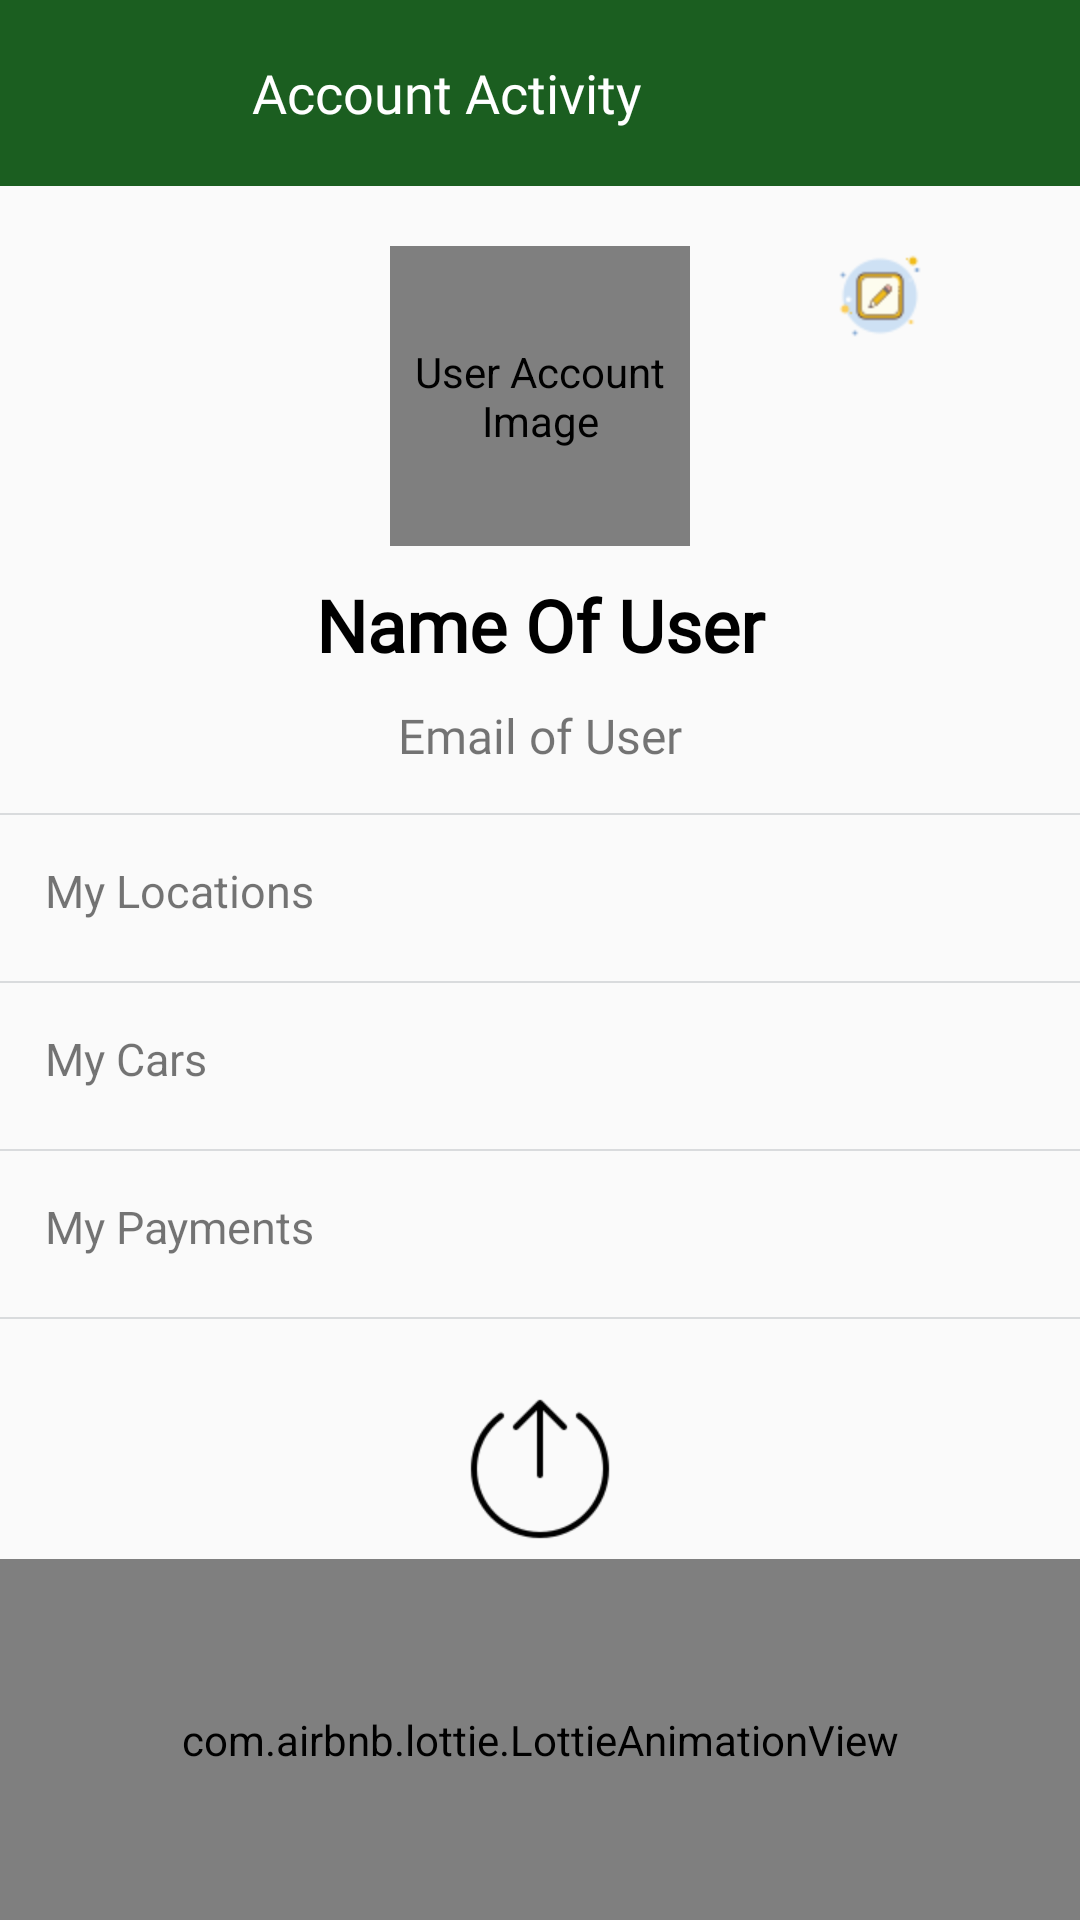

Screen size 1080px×1920px. Icon name, then its center in pixels as point (x, y):
Edit: point (880, 296)
